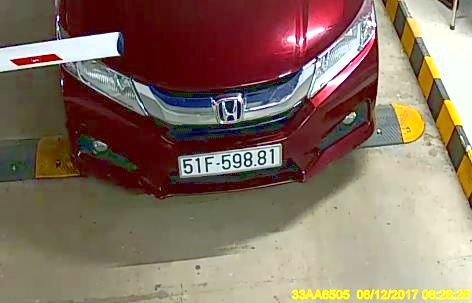plate: (177, 143, 284, 177)
